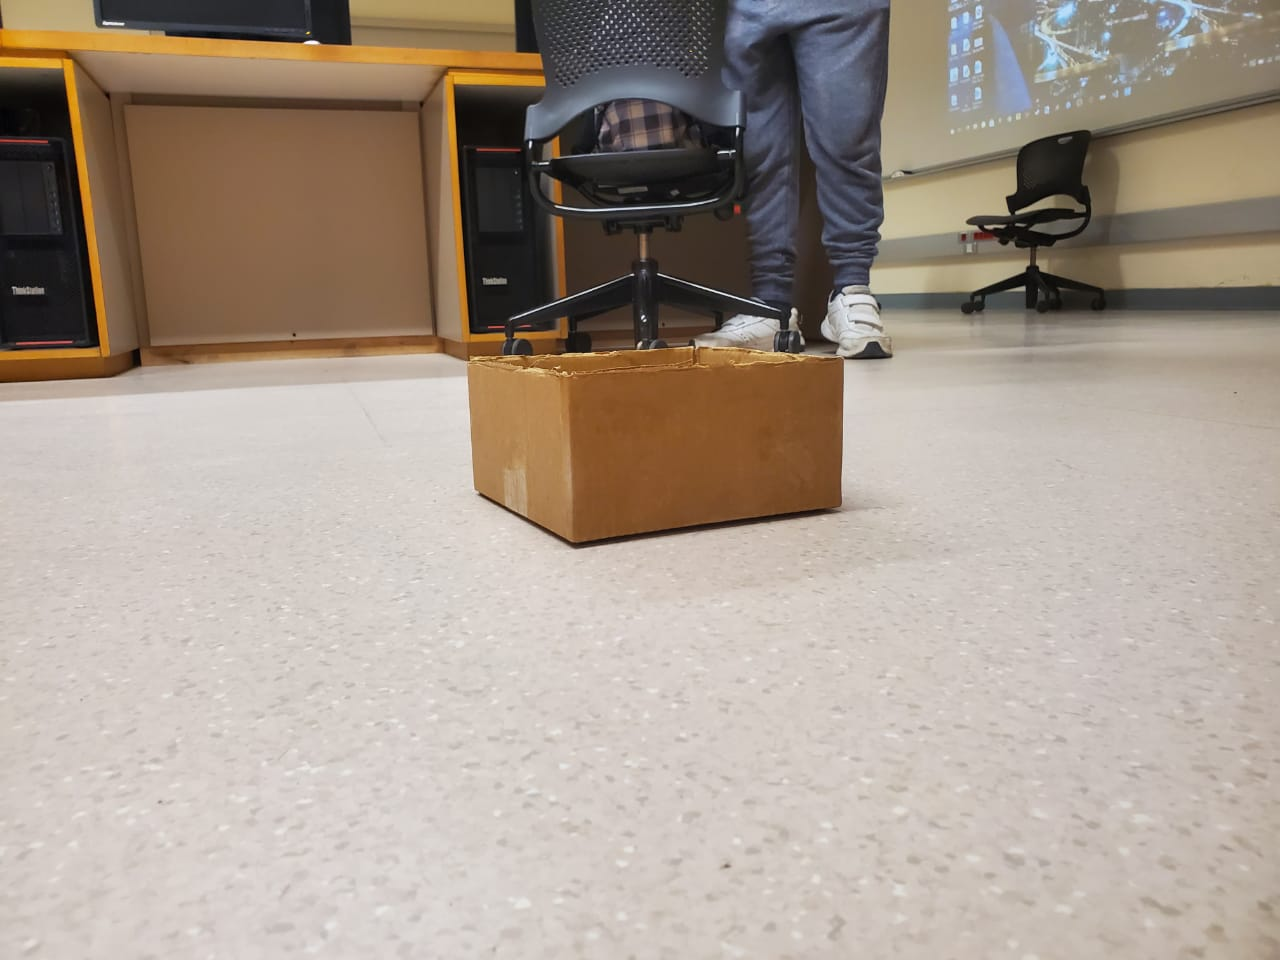CBox: (461, 337, 855, 556)
